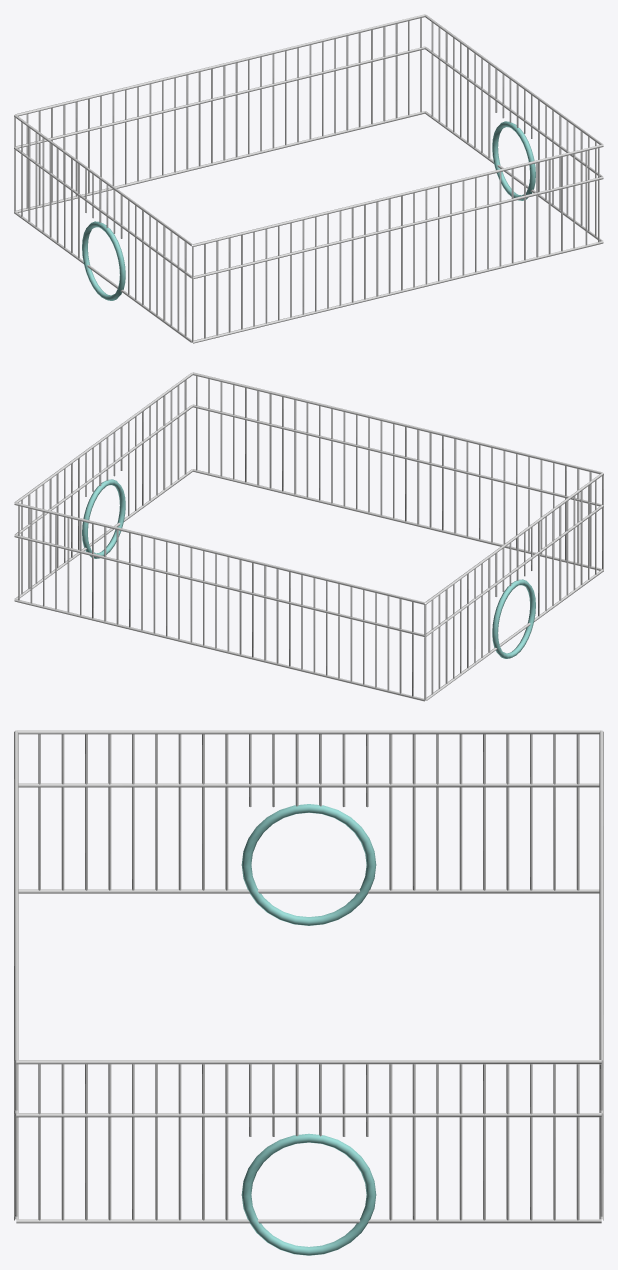
Rendered from cage_bars.glb.
The picture shows the model from 3 angles, top to bottom: view 1: azimuth 30°, elevation 25°; view 2: azimuth 150°, elevation 25°; view 3: azimuth 270°, elevation 25°; orthographic projection. The views are drawn at different scales.
Parts seen in each view (by area): view 1: bars, tube_holes; view 2: bars, tube_holes; view 3: bars, tube_holes.
Part boxes in pixels (x1,y1,x2,y2): bars: (14,14,603,343); tube_holes: (82,121,535,300); bars: (14,372,603,701); tube_holes: (82,479,535,658); bars: (14,730,603,1223); tube_holes: (241,804,376,1255).
Size of the model in its own units: 4.04 by 1.11 by 3.02.
